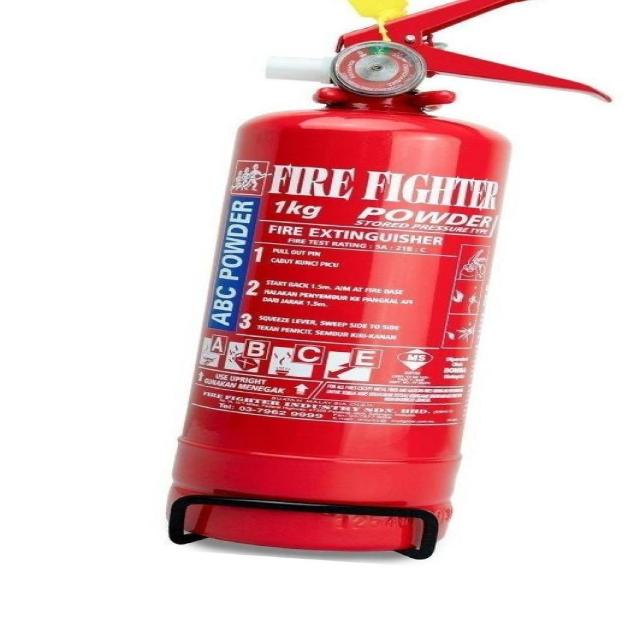fire_extinguisher: (155, 0, 618, 556)
